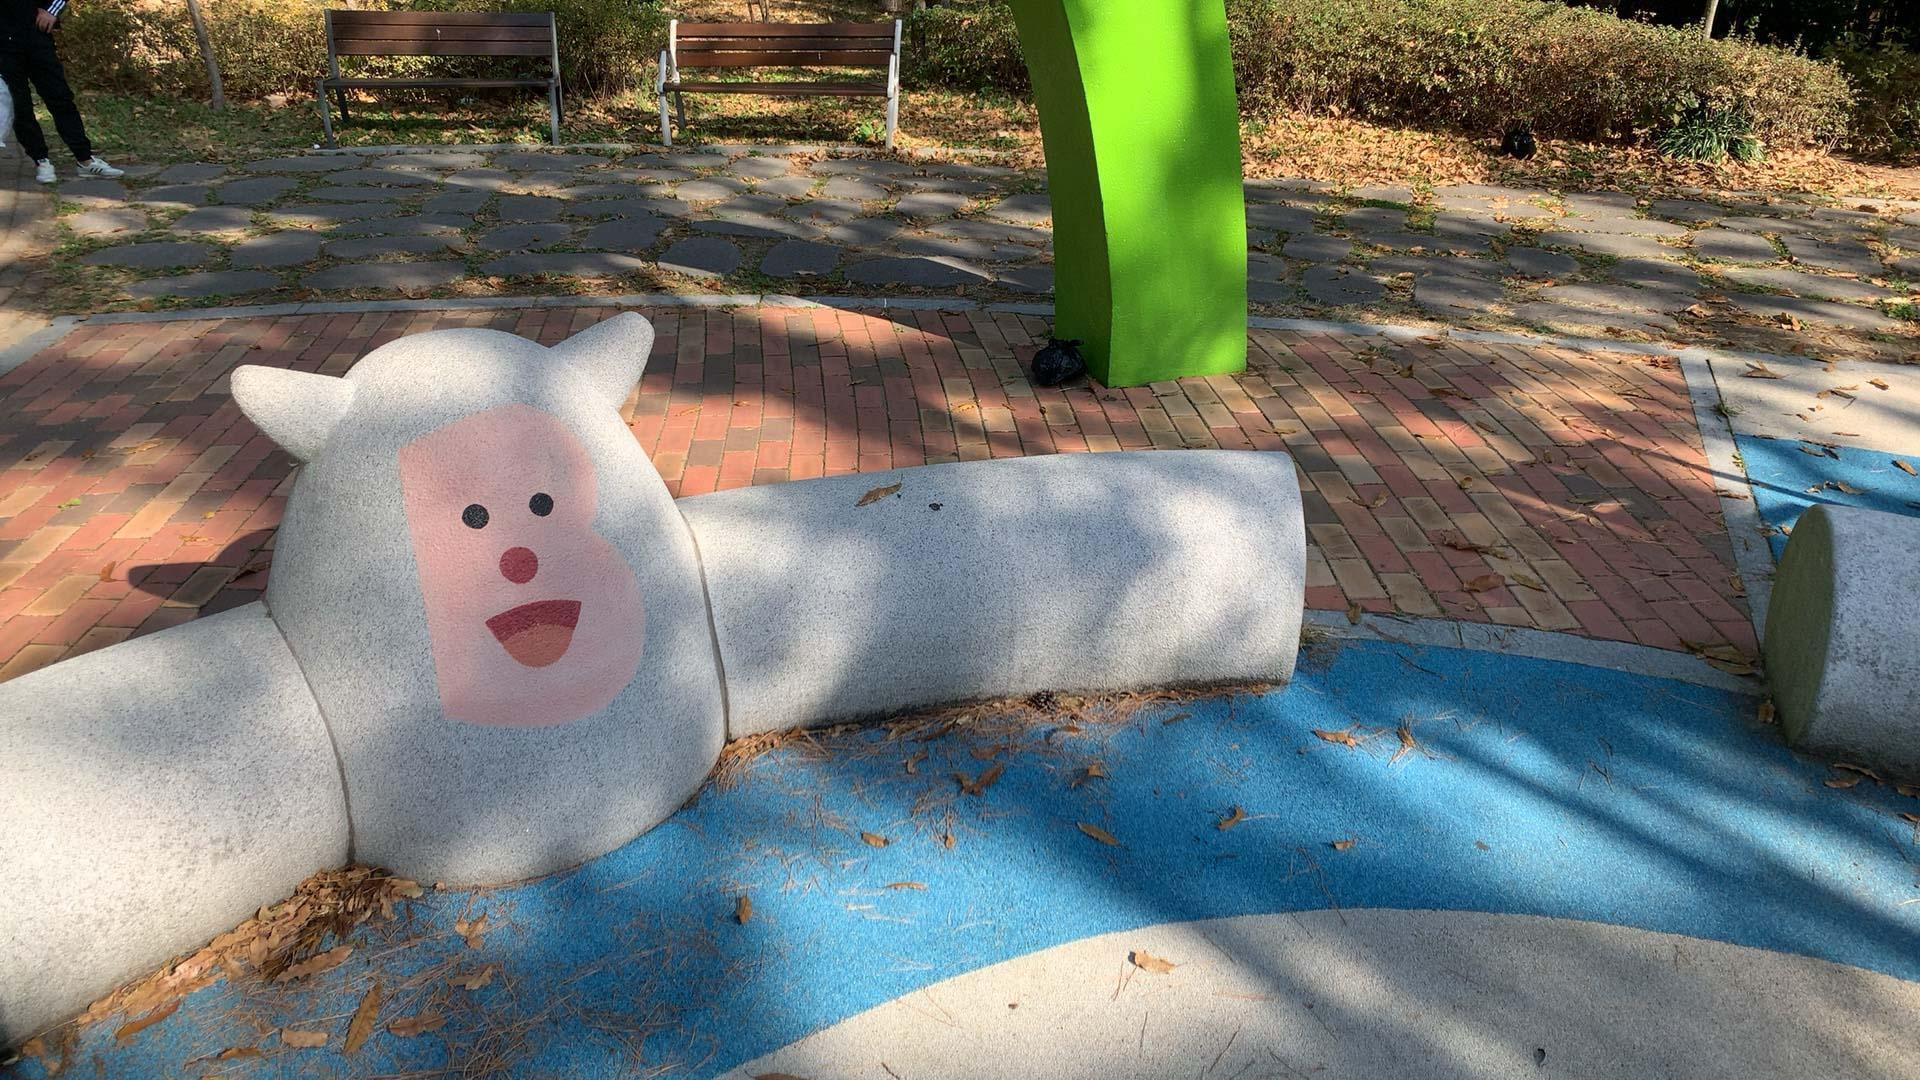black_bag: (1029, 332, 1092, 389)
